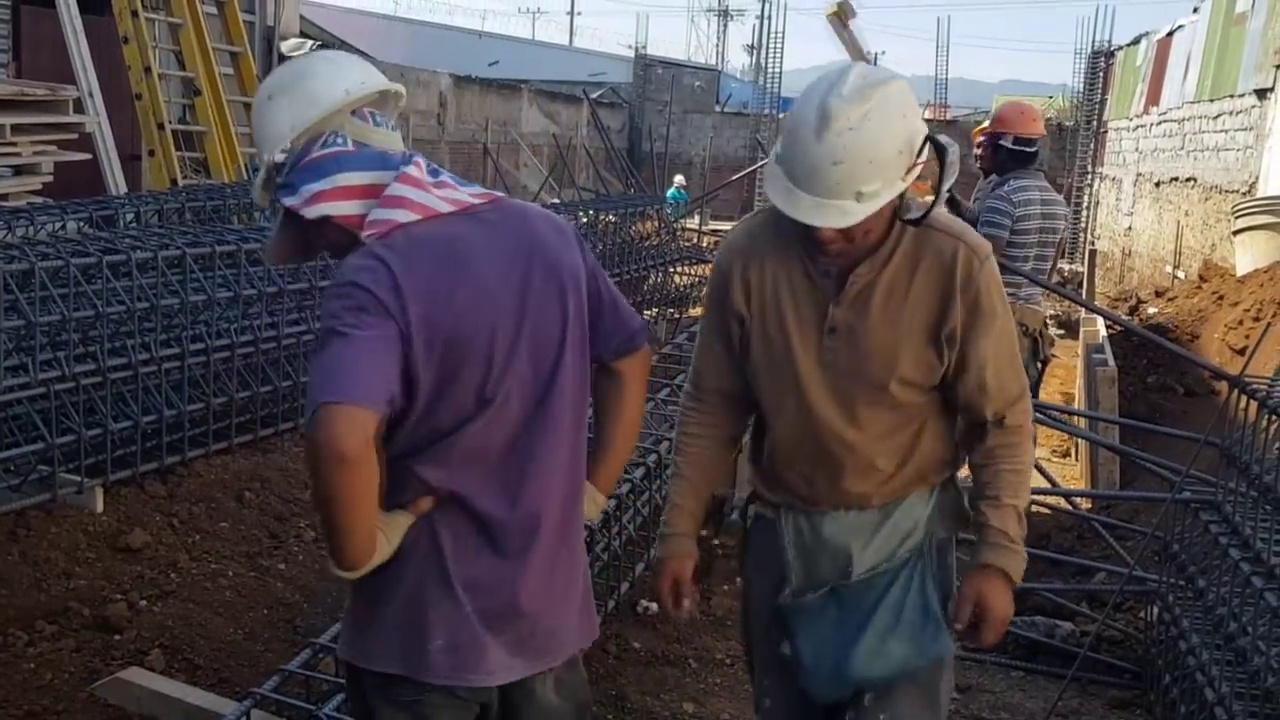helmet: (768, 60, 938, 227), (243, 44, 411, 209), (975, 100, 1048, 143), (671, 175, 687, 186)
helmet-on: (241, 45, 441, 274), (768, 55, 944, 268), (975, 101, 1048, 181), (670, 175, 687, 193)
person: (229, 51, 631, 714), (648, 59, 1033, 716), (974, 100, 1073, 391), (664, 176, 687, 224)
